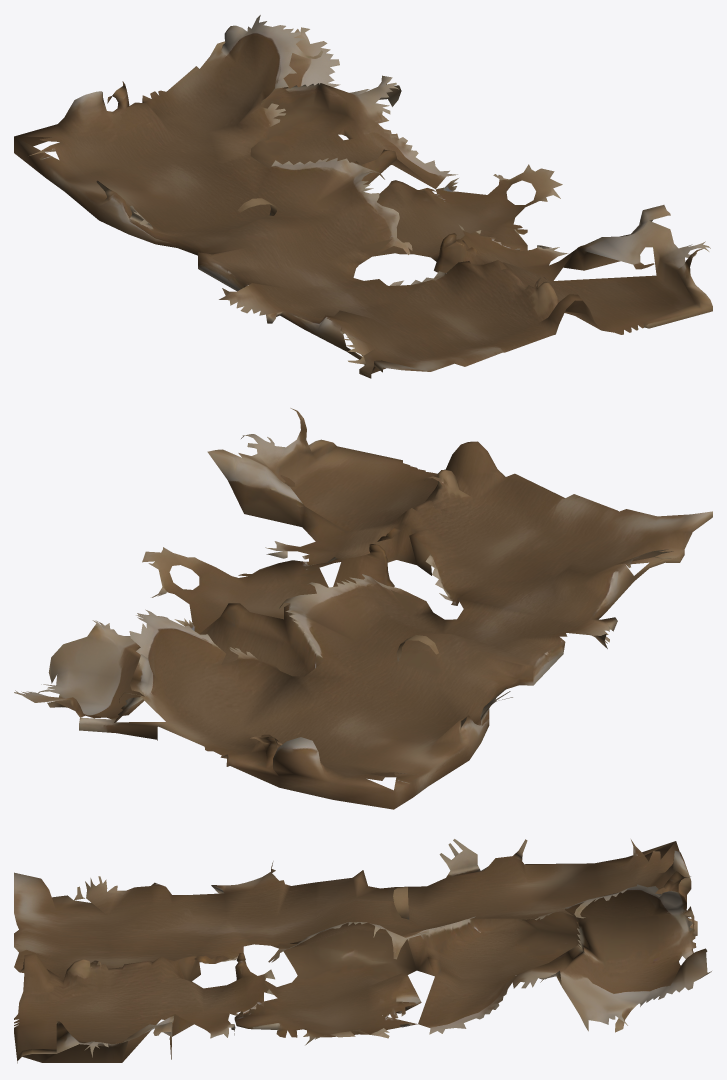
File: ribbon_junk.glb
The picture shows the model from 3 angles, top to bottom: view 1: azimuth 30°, elevation 25°; view 2: azimuth 150°, elevation 25°; view 3: azimuth 270°, elevation 25°; orthographic projection. The views are drawn at different scales.
Visible parts, largest first — view 1: tripo_node_f5f72e32-7c4c-4cb0-9380-4f37fb364662; view 2: tripo_node_f5f72e32-7c4c-4cb0-9380-4f37fb364662; view 3: tripo_node_f5f72e32-7c4c-4cb0-9380-4f37fb364662.
Boxes of the visible parts, x1=… form: tripo_node_f5f72e32-7c4c-4cb0-9380-4f37fb364662: x1=14, y1=15, x2=712, y2=378; tripo_node_f5f72e32-7c4c-4cb0-9380-4f37fb364662: x1=14, y1=408, x2=712, y2=809; tripo_node_f5f72e32-7c4c-4cb0-9380-4f37fb364662: x1=14, y1=839, x2=711, y2=1063.
Bounding box in the file's own units: 0.7212 × 0.1802 × 0.9995.
1 material, 1 textured.
